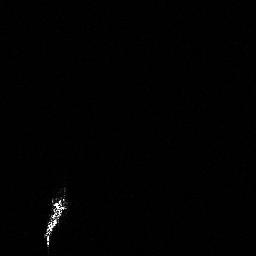ship: (42, 190, 69, 247)
